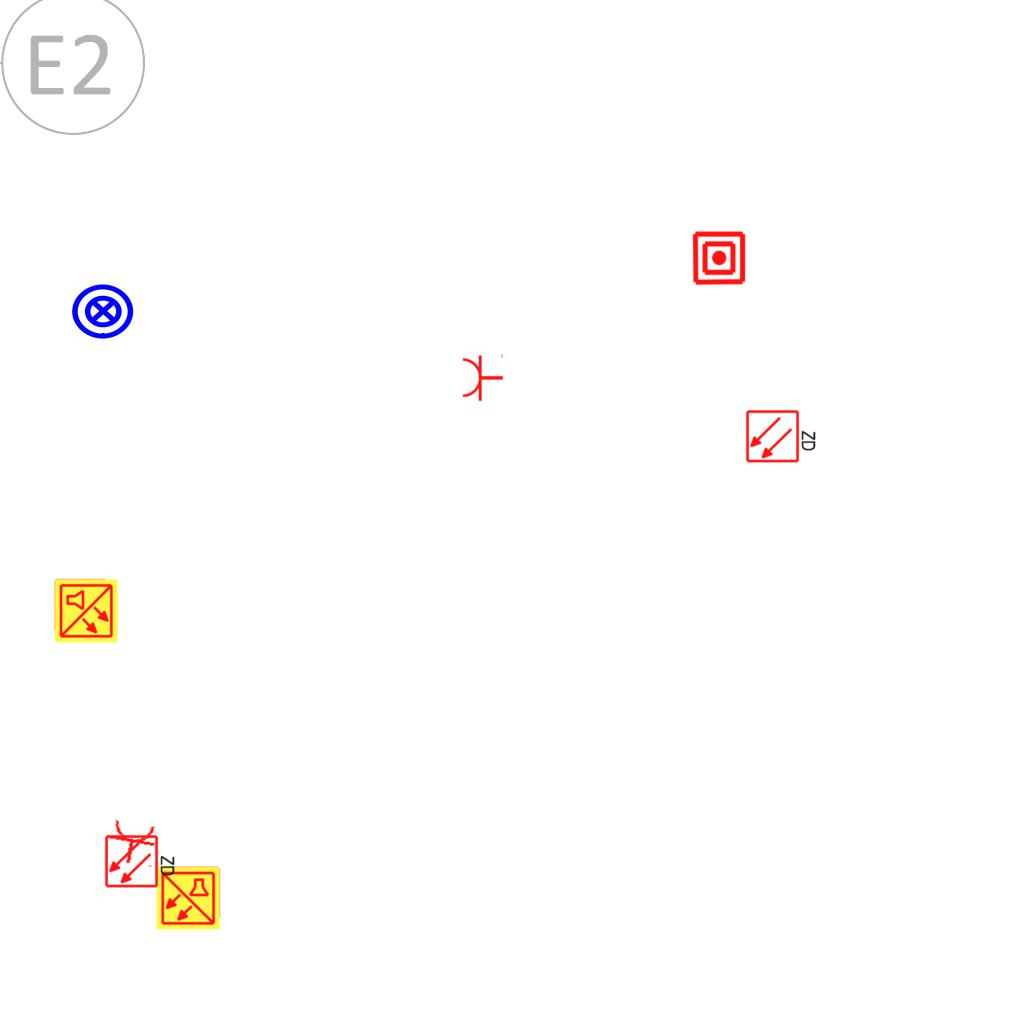NAM-Nichtautomatischer_Melder: (691, 230, 747, 286)
OKW_Multisensormelder_(Kombination_optischer_Rauch-Kahlenmonoxid_Waerme-Melder): (53, 578, 119, 644), (155, 865, 221, 931)
Schukosteckdose_einfach: (104, 817, 161, 869), (461, 352, 504, 402)
Taster_beleuchtet: (70, 278, 136, 344)
ZD_Melder_in_Zwischendecke_mit_Revisionsoeffnung_mind_40_x_40_cm: (745, 407, 819, 464), (104, 832, 178, 889)
